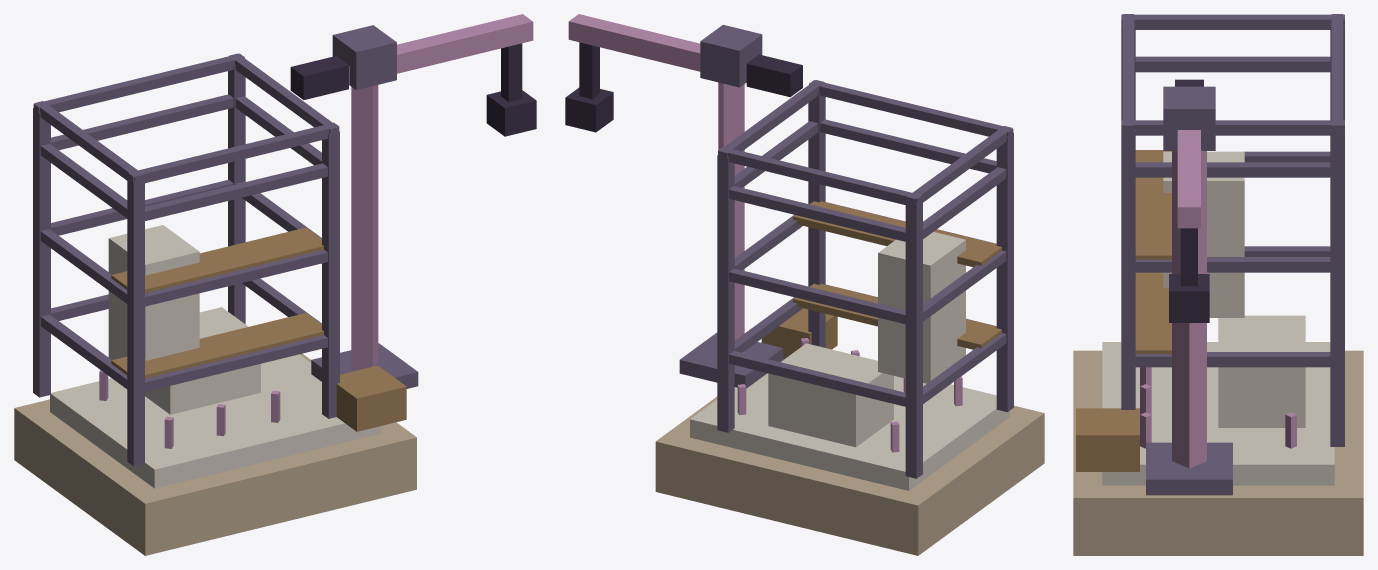
Rendered from city-build-1.glb.
3 views of the same model, side by side, from view 1: azimuth 30°, elevation 25°; view 2: azimuth 150°, elevation 25°; view 3: azimuth 270°, elevation 25° (orthographic). The views are drawn at different scales.
Parts seen in each view (by area): view 1: city-build-1; view 2: city-build-1; view 3: city-build-1.
Part boxes in pixels (x1,y1,x2,y2): city-build-1: (14,14,536,555); city-build-1: (565,14,1044,555); city-build-1: (1073,14,1363,555).
Size of the model in its own units: 1.92 by 1.74 by 1.
